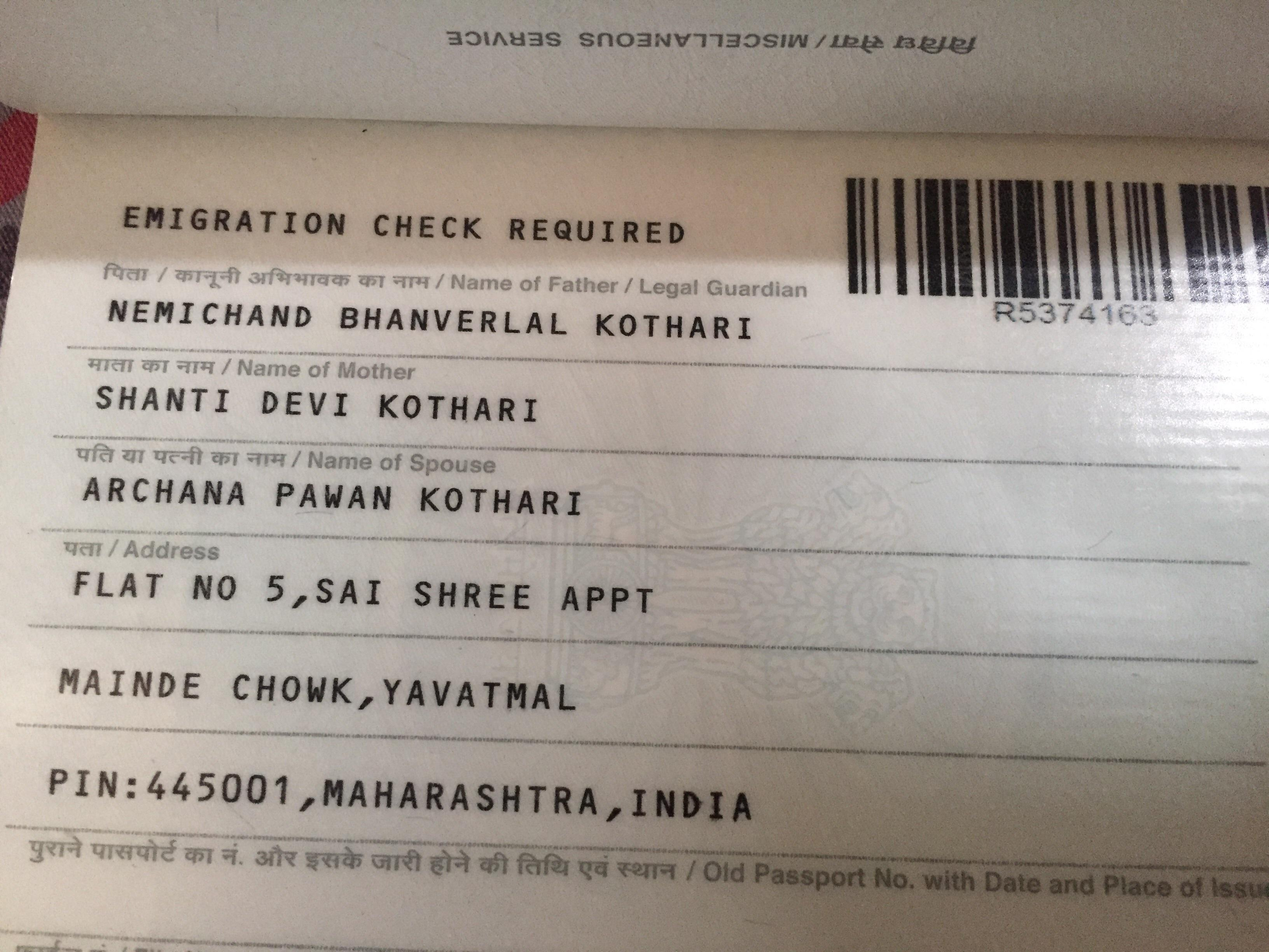address: (162, 24, 513, 610)
father_name: (798, 69, 878, 584)
mother_name: (700, 60, 768, 413)
passport_no: (824, 736, 890, 893)
spouse_name: (570, 41, 656, 441)
